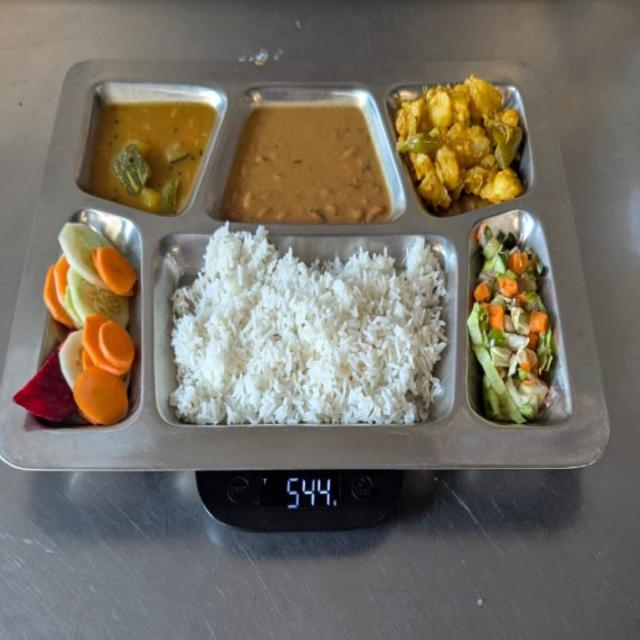Aloo Shimlamirch: (396, 72, 535, 204)
Dal: (230, 97, 397, 226)
Salad: (11, 214, 143, 448), (465, 225, 565, 431)
Sambhar: (83, 89, 227, 218)
White Rice: (162, 225, 452, 431)
